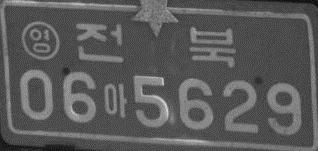0: (18, 68, 53, 121)
2: (222, 79, 260, 134)
5: (132, 74, 170, 128)
6: (62, 70, 96, 125), (178, 77, 213, 130)
9: (265, 81, 302, 136)
아: (102, 82, 128, 120)
영: (19, 20, 61, 62)
전북_D: (74, 21, 236, 68)
